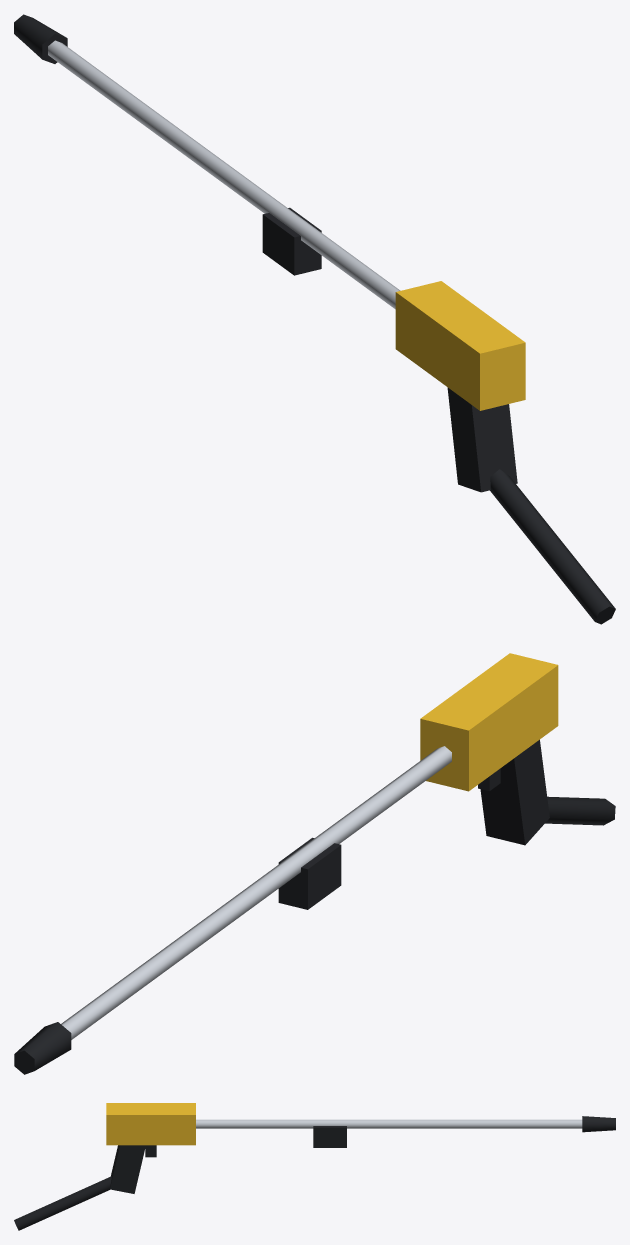
Rendered from tool_washer.glb.
The picture shows the model from 3 angles, top to bottom: view 1: azimuth 30°, elevation 25°; view 2: azimuth 150°, elevation 25°; view 3: azimuth 270°, elevation 25°; orthographic projection. The views are drawn at different scales.
Visible parts, largest first — view 1: _MeshInstance3D_1124, _MeshInstance3D_1126, _MeshInstance3D_1123, _MeshInstance3D_1129, _MeshInstance3D_1127, _MeshInstance3D_1128; view 2: _MeshInstance3D_1124, _MeshInstance3D_1126, _MeshInstance3D_1123, _MeshInstance3D_1127, _MeshInstance3D_1128, _MeshInstance3D_1129; view 3: _MeshInstance3D_1124, _MeshInstance3D_1126, _MeshInstance3D_1123, _MeshInstance3D_1129, _MeshInstance3D_1127, _MeshInstance3D_1128.
Boxes of the visible parts, left/top/right/bottom form: _MeshInstance3D_1124: left=395, top=281, right=525, bottom=410; _MeshInstance3D_1126: left=48, top=40, right=400, bottom=309; _MeshInstance3D_1123: left=447, top=387, right=517, bottom=492; _MeshInstance3D_1129: left=490, top=469, right=615, bottom=624; _MeshInstance3D_1127: left=262, top=207, right=321, bottom=275; _MeshInstance3D_1128: left=14, top=14, right=67, bottom=63; _MeshInstance3D_1124: left=420, top=653, right=558, bottom=791; _MeshInstance3D_1126: left=61, top=746, right=451, bottom=1039; _MeshInstance3D_1123: left=480, top=739, right=549, bottom=845; _MeshInstance3D_1127: left=278, top=837, right=341, bottom=909; _MeshInstance3D_1128: left=14, top=1022, right=71, bottom=1074; _MeshInstance3D_1129: left=545, top=796, right=615, bottom=825; _MeshInstance3D_1124: left=106, top=1103, right=195, bottom=1145; _MeshInstance3D_1126: left=196, top=1119, right=582, bottom=1128; _MeshInstance3D_1123: left=110, top=1145, right=145, bottom=1193; _MeshInstance3D_1129: left=14, top=1176, right=111, bottom=1230; _MeshInstance3D_1127: left=313, top=1126, right=346, bottom=1147; _MeshInstance3D_1128: left=582, top=1116, right=615, bottom=1132.
Bounding box in the file's own units: 0.0561 × 0.2309 × 1.07.
